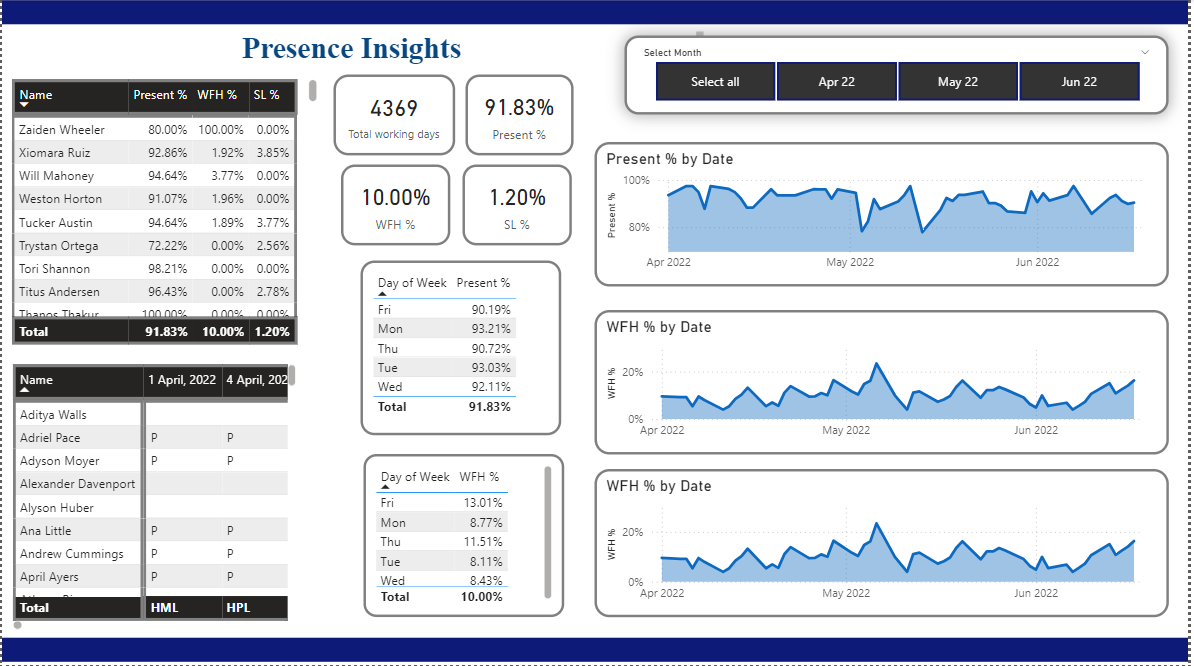

The page's visual inventory and layout, read from the dashboard file:
{"tool":"powerbi","page":{"name":"Page 1","canvas":[1280,720],"ordinal":0},"visuals":[{"type":"shape","box":[0,686.6,1280.8,34],"z":0},{"type":"shape","box":[0,0,1280.8,30.8],"z":1000},{"type":"textbox","box":[0,30.8,762.7,45.3],"z":2000},{"type":"card","fields":{"Values":["Measure Table.Total working days"]},"box":[357.8,82.6,131.2,87.4],"z":3000},{"type":"card","fields":{"Values":["Measure Table.Present %"]},"box":[500.3,82.6,116.6,87.4],"z":4000},{"type":"slicer","fields":{"Values":["Final Data.Select Month"]},"box":[672.4,40.5,587.3,85.1],"z":5000},{"type":"card","fields":{"Values":["Measure Table.WFH %"]},"box":[365.4,179.7,118.2,87.4],"z":6000},{"type":"card","fields":{"Values":["Measure Table.SL %"]},"box":[496.6,179.7,118.2,87.4],"z":7000},{"type":"tableEx","fields":{"Values":["Final Data.Name","Measure Table.Present %","Measure Table.WFH %","Measure Table.SL %"]},"box":[4.9,82.6,340,296.3],"z":8000},{"type":"pivotTable","fields":{"Rows":["Final Data.Name"],"Values":["Final Data.Value"],"Columns":["Final Data.Date"]},"box":[6.5,390.2,315.7,296.3],"z":9000},{"type":"areaChart","fields":{"Category":["Final Data.Date"],"Y":["Measure Table.Present %"]},"box":[640,155.9,619.7,155.9],"z":10000},{"type":"areaChart","fields":{"Category":["Final Data.Date"],"Y":["Measure Table.WFH %"]},"box":[640,336.2,619.7,155.9],"z":11000},{"type":"areaChart","fields":{"Category":["Final Data.Date"],"Y":["Measure Table.WFH %"]},"box":[640,508.4,619.7,160],"z":12000},{"type":"tableEx","fields":{"Values":["Final Data.Day of Week","Measure Table.Present %"]},"box":[386.8,283.5,216.7,188.4],"z":13000},{"type":"tableEx","fields":{"Values":["Final Data.Day of Week","Measure Table.WFH %"]},"box":[390.9,492.2,216.7,176.2],"z":14000}]}

Visuals, with their boxes in screenshot pixels (x1, y1, x2, y2), scaled from the page's 1280x720 canvas onto the 1194x666 screenshot:
shape: bbox(0, 635, 1193, 665)
shape: bbox(0, 0, 1193, 28)
textbox: bbox(0, 28, 711, 70)
card - Measure Table.Total working days: bbox(334, 76, 456, 157)
card - Measure Table.Present %: bbox(467, 76, 575, 157)
slicer - Final Data.Select Month: bbox(627, 37, 1175, 116)
card - Measure Table.WFH %: bbox(341, 166, 451, 247)
card - Measure Table.SL %: bbox(463, 166, 573, 247)
tableEx - Final Data.Name x Measure Table.Present %: bbox(5, 76, 322, 350)
pivotTable - Final Data.Name x Final Data.Value: bbox(6, 361, 301, 635)
areaChart - Final Data.Date x Measure Table.Present %: bbox(597, 144, 1175, 288)
areaChart - Final Data.Date x Measure Table.WFH %: bbox(597, 311, 1175, 455)
areaChart - Final Data.Date x Measure Table.WFH %: bbox(597, 470, 1175, 618)
tableEx - Final Data.Day of Week x Measure Table.Present %: bbox(361, 262, 563, 437)
tableEx - Final Data.Day of Week x Measure Table.WFH %: bbox(365, 455, 567, 618)
